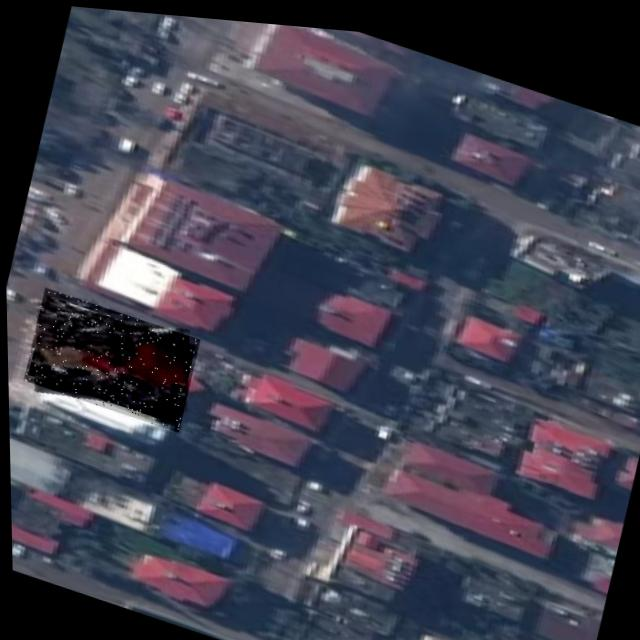Rubble: (18, 284, 199, 431)
